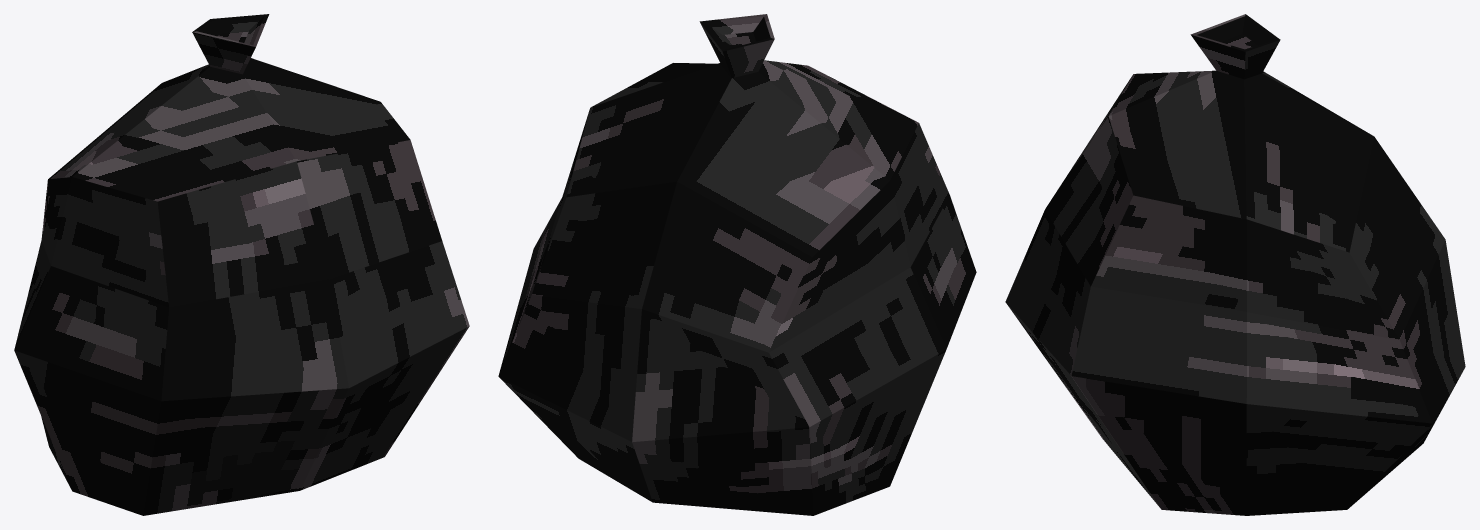
The model's file is trash_BigAssTrashBagModel.fbx.
3 views of the same model, side by side, from view 1: azimuth 30°, elevation 25°; view 2: azimuth 150°, elevation 25°; view 3: azimuth 270°, elevation 25° (orthographic). The views are drawn at different scales.
Parts seen in each view (by area): view 1: Cube.003; view 2: Cube.003; view 3: Cube.003.
Part boxes in pixels (x1=…): Cube.003: x1=14, y1=14, x2=469, y2=515; Cube.003: x1=498, y1=14, x2=976, y2=515; Cube.003: x1=1005, y1=14, x2=1465, y2=515.
Bounding box in the file's own units: 280 × 272 × 267.
Materials: 1 (1 with a texture image).
